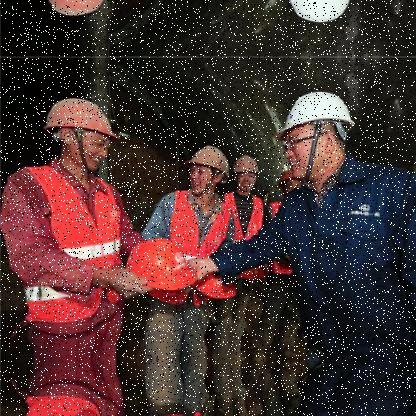Helmet: (288, 92, 362, 188), (44, 97, 132, 172), (184, 138, 224, 200), (291, 0, 361, 29), (48, 0, 110, 19), (235, 150, 262, 190)
